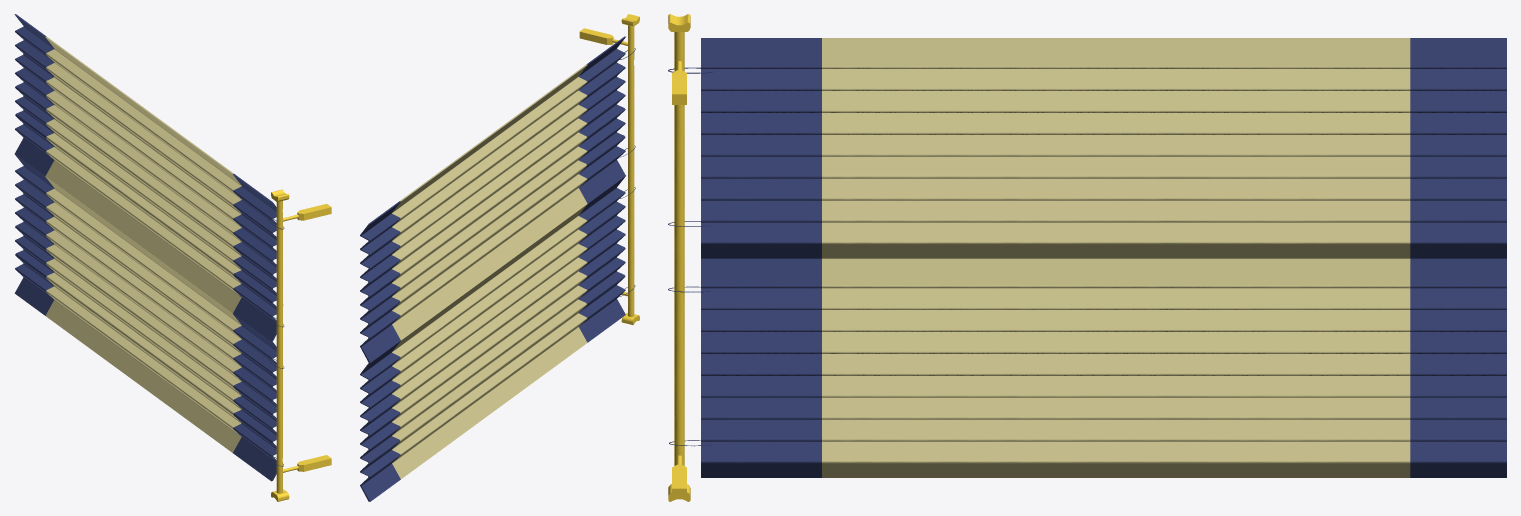
The model's file is curtain_right.obj.
The picture shows the model from 3 angles, left to right: view 1: azimuth 30°, elevation 25°; view 2: azimuth 150°, elevation 25°; view 3: azimuth 270°, elevation 25°; orthographic projection. The views are drawn at different scales.
Visible parts, largest first — view 1: curtain_right; view 2: curtain_right; view 3: curtain_right.
Part boxes in pixels (x1=…): curtain_right: x1=14, y1=14, x2=331, y2=501; curtain_right: x1=360, y1=14, x2=639, y2=501; curtain_right: x1=668, y1=14, x2=1506, y2=501.
Size of the model in its own units: 0.2461 by 1.31 by 2.08.
